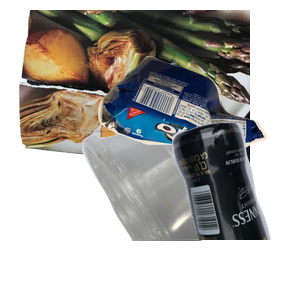glass: (106, 120, 300, 300)
paper: (16, 10, 256, 172)
plastic: (80, 120, 289, 300)
trash: (95, 53, 300, 195)
